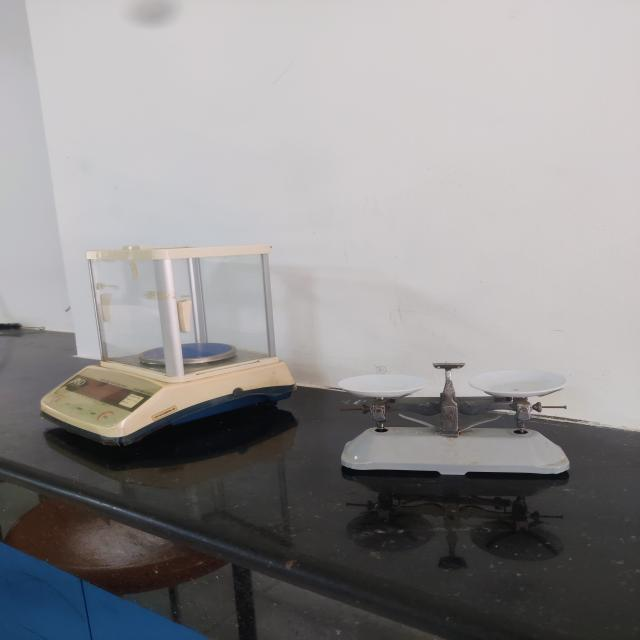Mechanical_Balance_Scale: (328, 344, 594, 502)
Precision_Weight_Scale: (35, 232, 302, 463)
